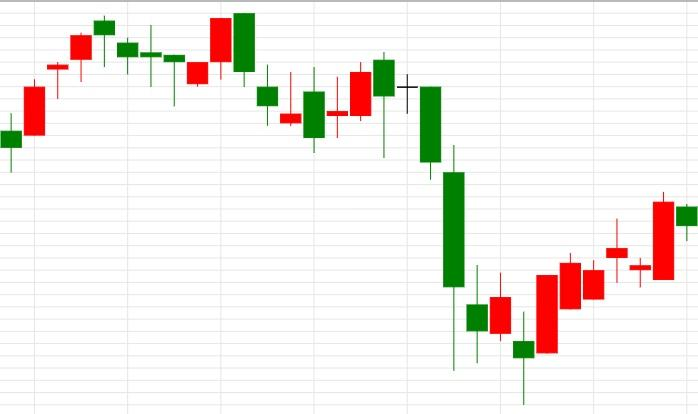bearish_engulfing_fall: (302, 51, 396, 158)
hanging_man_fall: (0, 16, 116, 173)
